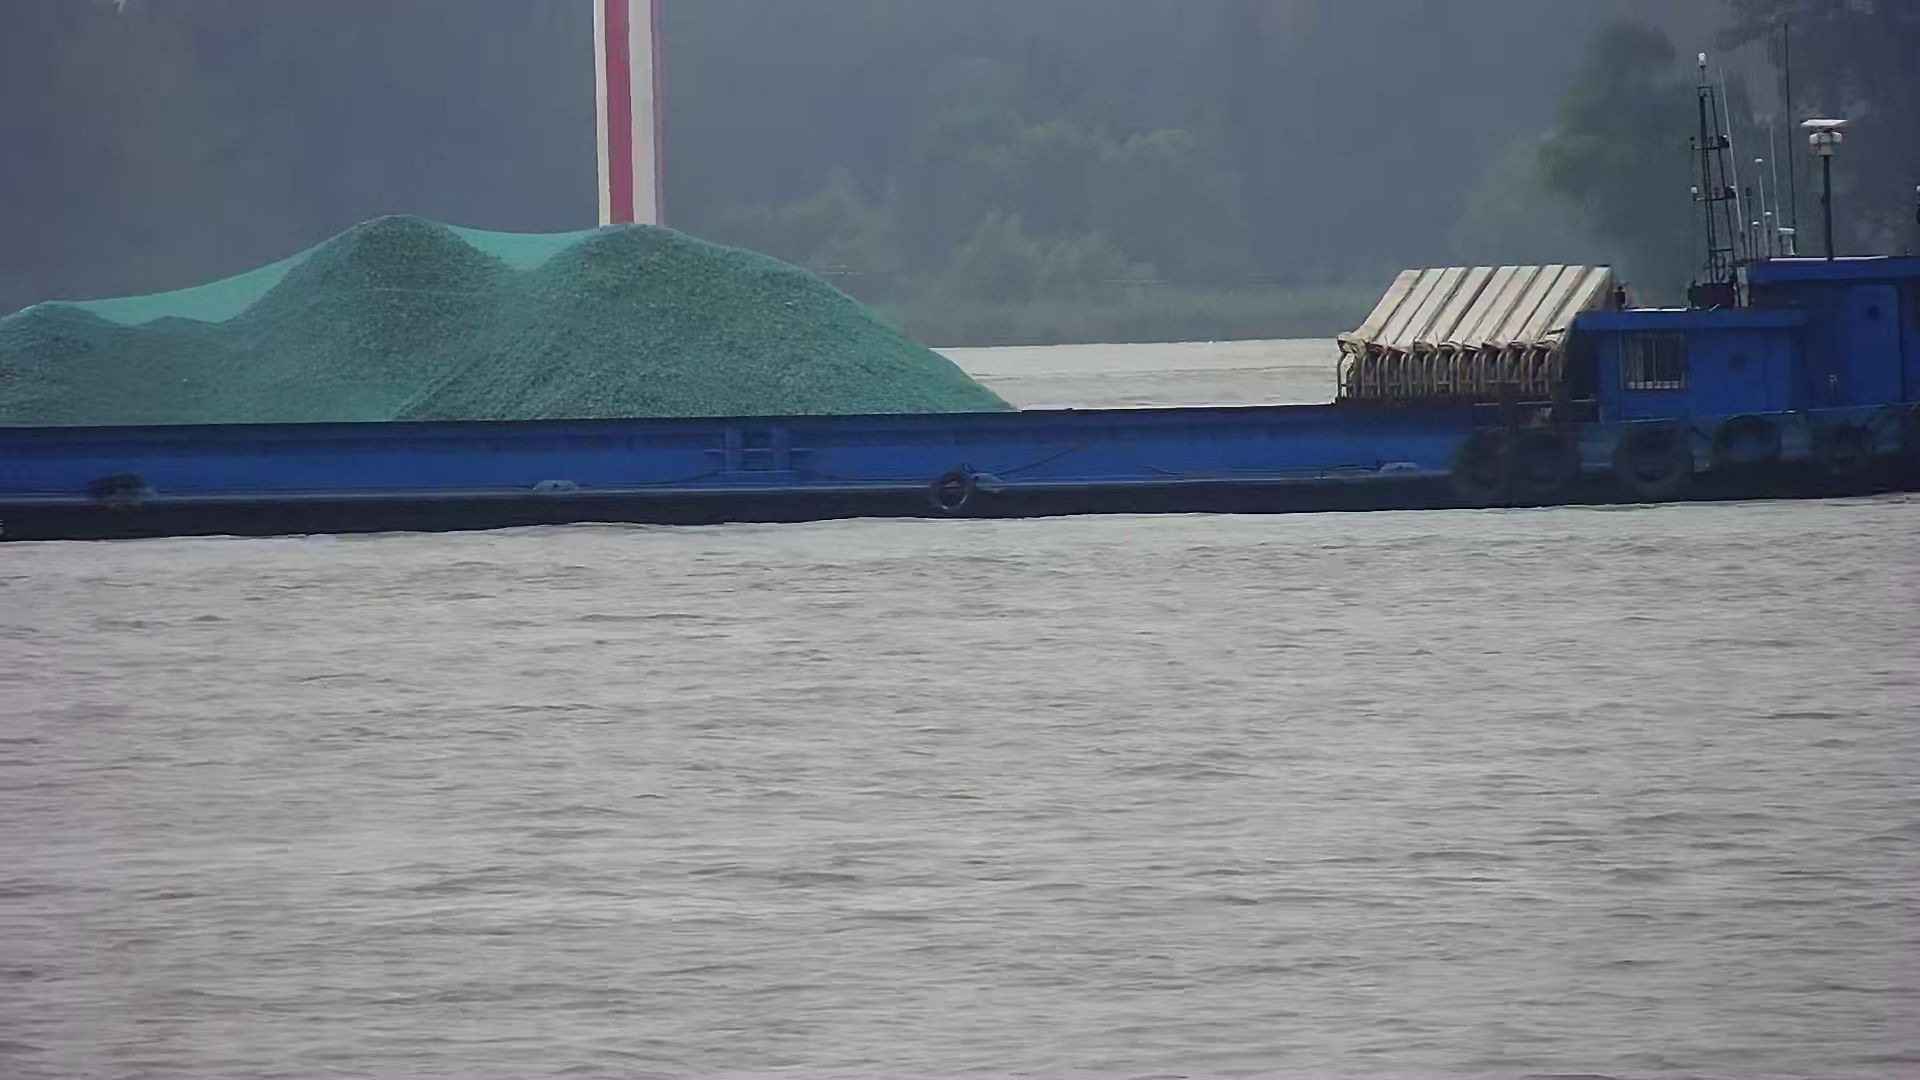ship: (1, 117, 1919, 542)
